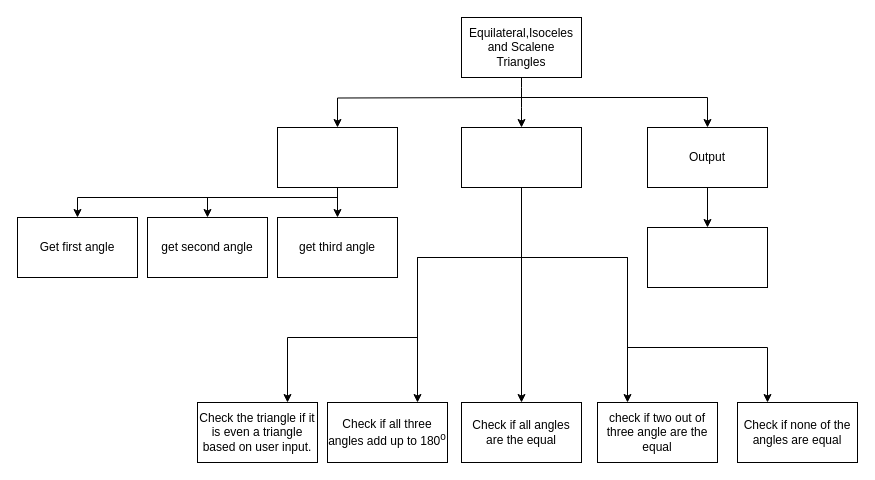
Some shapes in this 875 by 480 pixel diagram are drawn without their labels. Here are the shapes that lost their labels. From the top down, the centre of each, then its label:
At [337,157]: "Input".
At [521,157]: "Process".
At [707,257]: "Show awnser".
